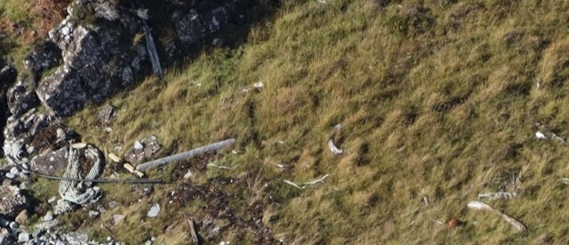straight_bar: (134, 134, 239, 175)
tube: (47, 171, 105, 187), (105, 174, 163, 190), (6, 155, 46, 178)
white_in_green: (433, 202, 474, 241), (524, 117, 560, 153), (108, 152, 145, 181)
